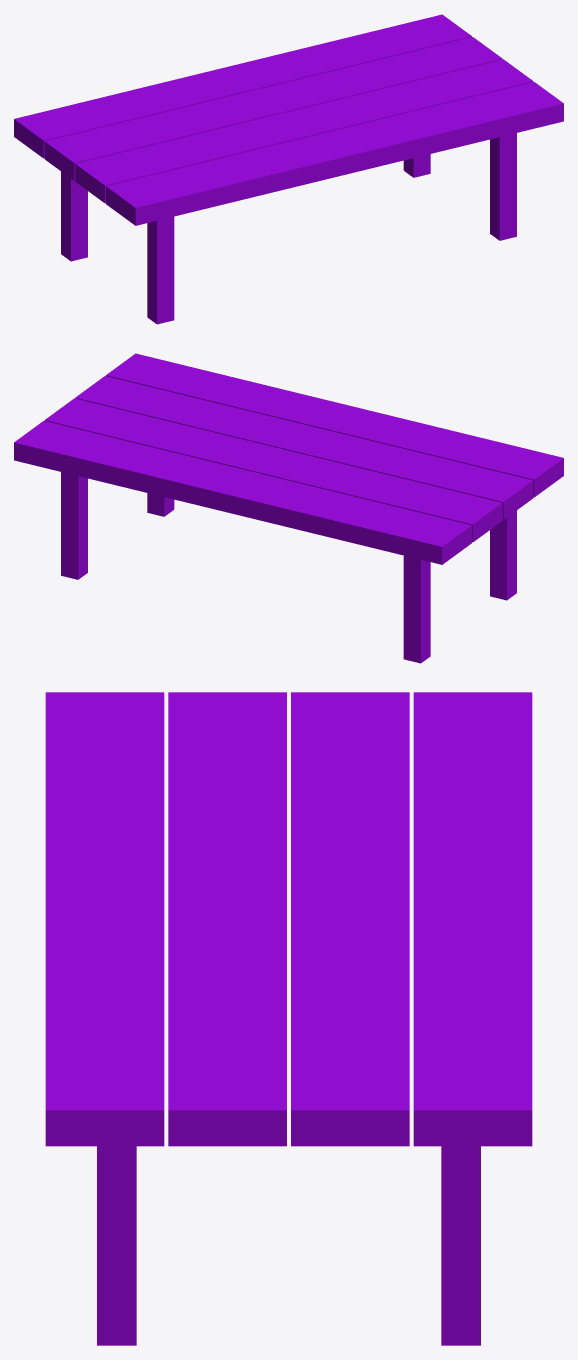
File: mesa.fbx
3 views of the same model, one above another, from view 1: azimuth 30°, elevation 25°; view 2: azimuth 150°, elevation 25°; view 3: azimuth 270°, elevation 25° (orthographic). The views are drawn at different scales.
Parts seen in each view (by area): view 1: sm_mesa.003, sm_mesa.001, sm_mesa.002, sm_mesa.008, sm_mesa.004, sm_mesa.006, sm_mesa.005, sm_mesa.007; view 2: sm_mesa.008, sm_mesa.002, sm_mesa.001, sm_mesa.003, sm_mesa.005, sm_mesa.007, sm_mesa.004, sm_mesa.006; view 3: sm_mesa.003, sm_mesa.008, sm_mesa.001, sm_mesa.002, sm_mesa.006, sm_mesa.007.
Boxes of the visible parts, <box> form: sm_mesa.003: <box>106,82,563,225</box>; sm_mesa.001: <box>44,37,502,180</box>; sm_mesa.002: <box>75,59,533,203</box>; sm_mesa.008: <box>14,14,471,158</box>; sm_mesa.004: <box>147,216,174,324</box>; sm_mesa.006: <box>490,133,516,240</box>; sm_mesa.005: <box>61,171,87,261</box>; sm_mesa.007: <box>403,154,430,177</box>; sm_mesa.008: <box>14,421,471,564</box>; sm_mesa.002: <box>75,376,533,519</box>; sm_mesa.001: <box>44,398,502,542</box>; sm_mesa.003: <box>106,353,563,497</box>; sm_mesa.005: <box>403,555,430,663</box>; sm_mesa.007: <box>61,472,87,579</box>; sm_mesa.004: <box>490,510,516,600</box>; sm_mesa.006: <box>147,493,174,516</box>; sm_mesa.003: <box>45,692,164,1146</box>; sm_mesa.008: <box>413,692,532,1146</box>; sm_mesa.001: <box>291,692,409,1146</box>; sm_mesa.002: <box>168,692,286,1146</box>; sm_mesa.006: <box>97,1146,136,1345</box>; sm_mesa.007: <box>441,1146,480,1345</box>.
Bounding box in the file's own units: 250 × 74.9 × 123.
